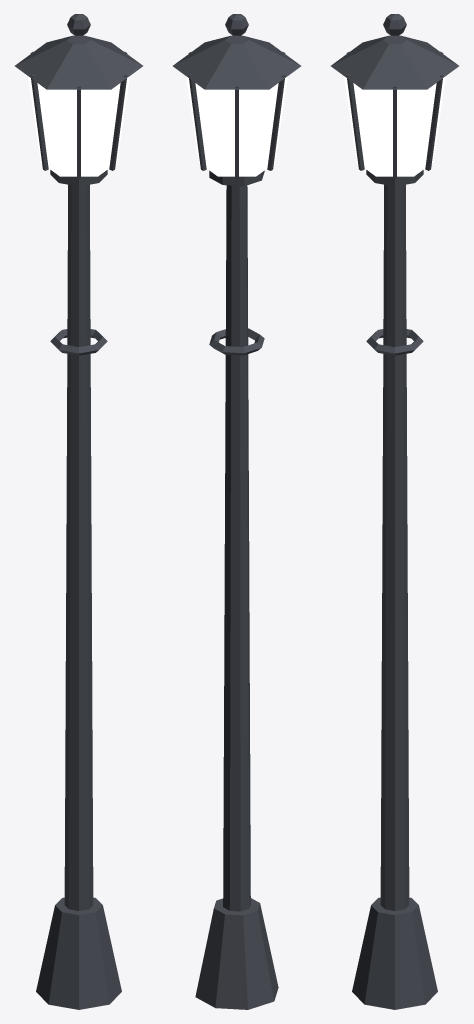
File: Street_Lamp_Classic.glb
3 renders of one model, left to right at view 1: azimuth 90°, elevation 25°; view 2: azimuth 150°, elevation 25°; view 3: azimuth 270°, elevation 25°, orthographic.
Parts seen in each view (by area): view 1: Street_Lamp_Classic; view 2: Street_Lamp_Classic; view 3: Street_Lamp_Classic.
Part boxes in pixels (x1,y1,x2,y2): Street_Lamp_Classic: (15, 14, 142, 1009); Street_Lamp_Classic: (173, 14, 300, 1009); Street_Lamp_Classic: (331, 14, 458, 1009).
Bounding box in the file's own units: 0.4677 × 4.51 × 0.54.
1 material, 1 textured.
